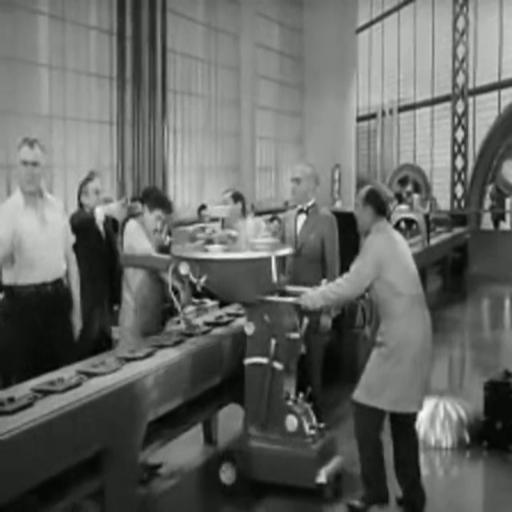nao-violencia: (67, 165, 181, 347)
